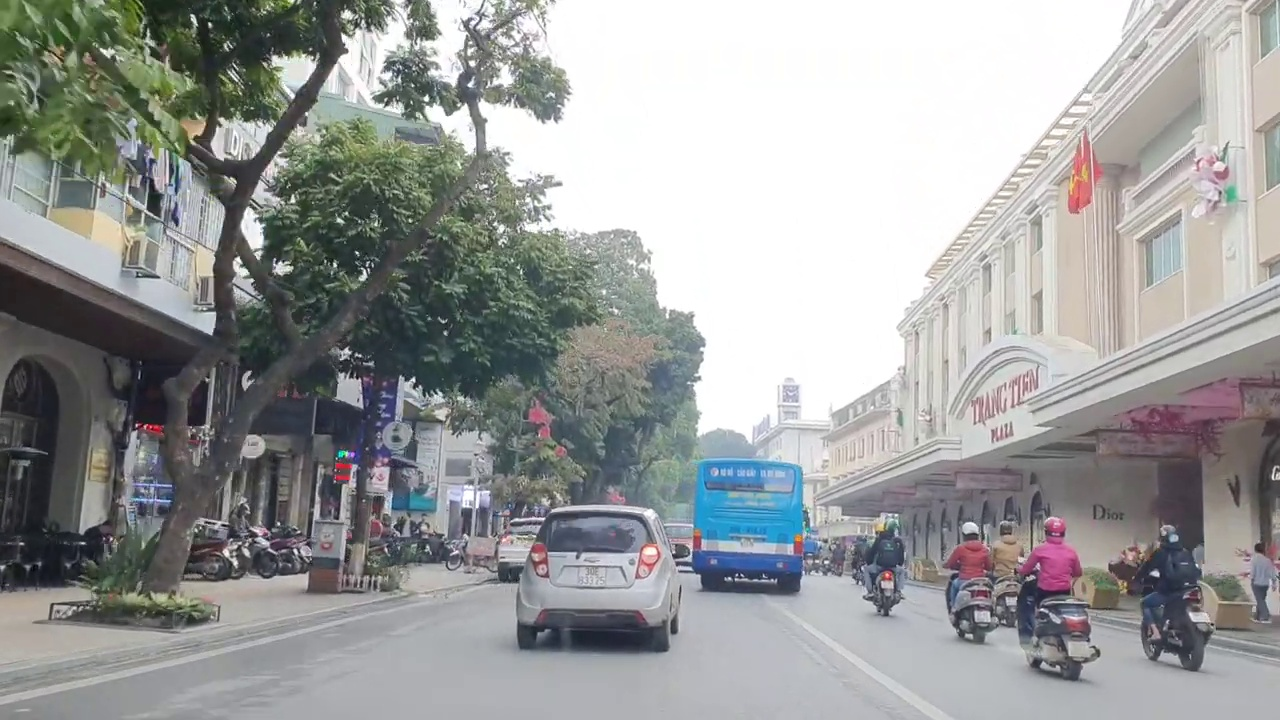vehicle-plate: (1068, 639, 1089, 659), (1188, 610, 1213, 622)
